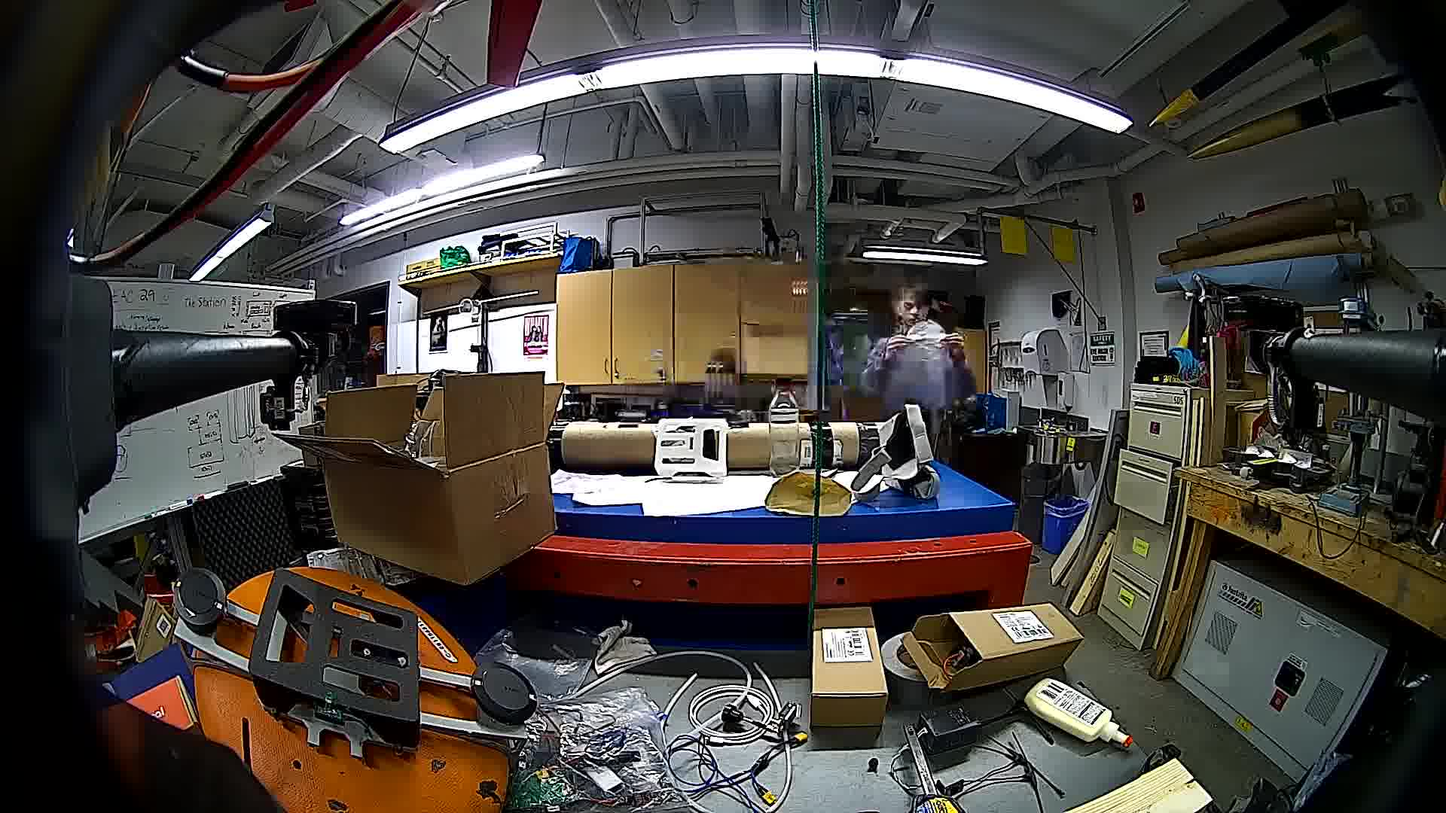Target: (908, 319, 947, 363)
